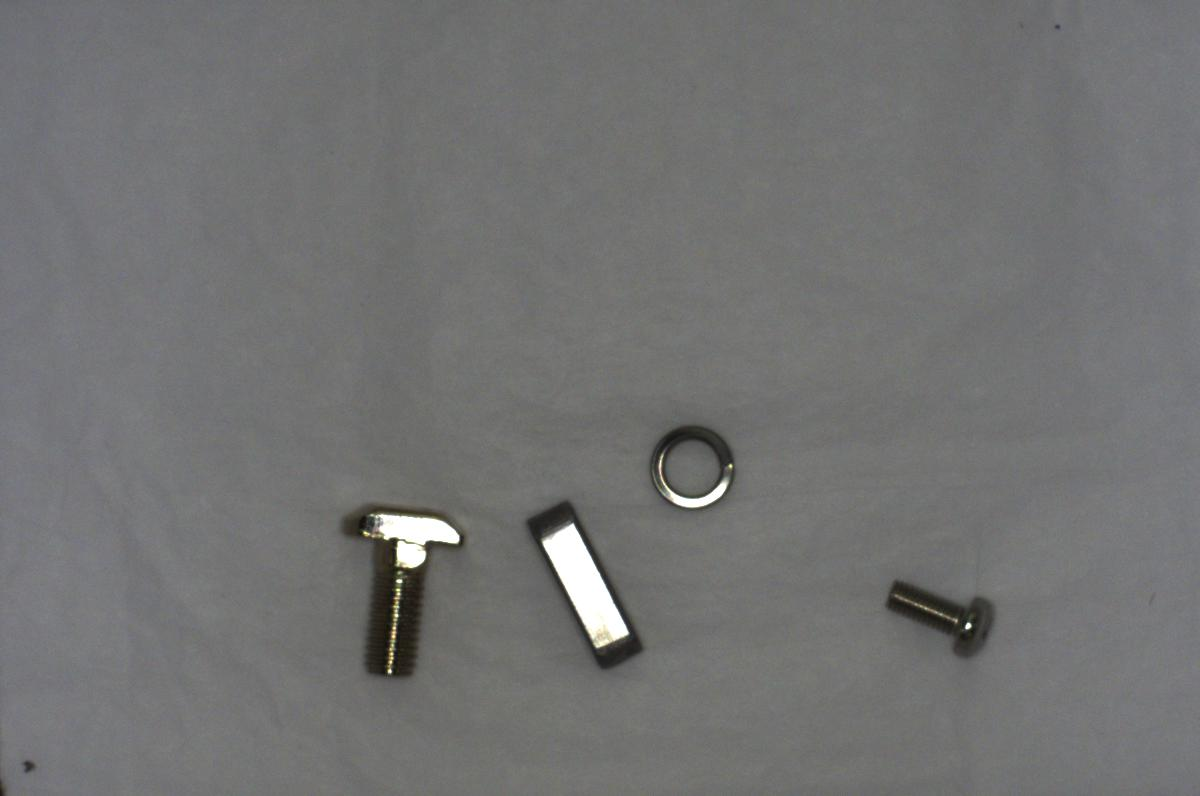Keybar: (525, 496, 647, 669)
Round head screw: (877, 568, 1002, 668)
Spring washer: (647, 420, 742, 509)
T-shaped screw: (330, 492, 473, 679)
